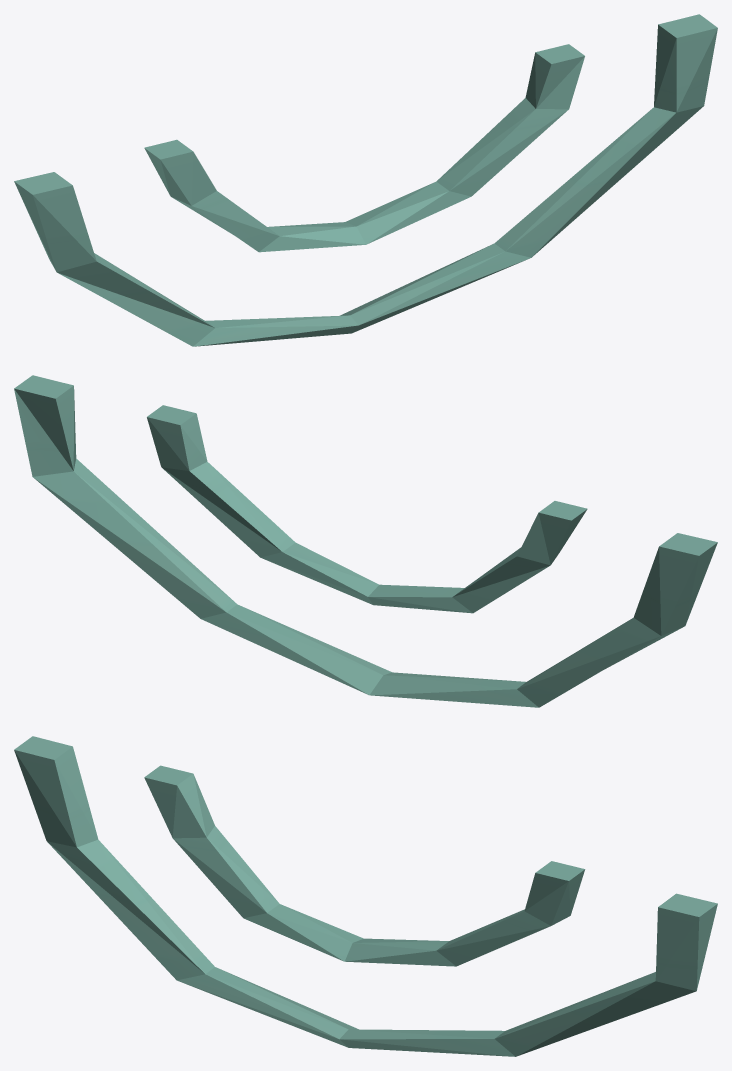
Rendered from vine_drape.glb.
The picture shows the model from 3 angles, top to bottom: view 1: azimuth 30°, elevation 25°; view 2: azimuth 150°, elevation 25°; view 3: azimuth 330°, elevation 25°; orthographic projection.
Parts seen in each view (by area): view 1: Vine_A_7; view 2: Vine_A_7; view 3: Vine_A_7.
Boxes of the visible parts, x1,y1,x2,y2 form: Vine_A_7: (14,14,717,346); Vine_A_7: (14,375,717,707); Vine_A_7: (14,736,717,1056).
Bounding box in the file's own units: 2.4 × 0.76 × 0.14.
1 material, 1 textured.
